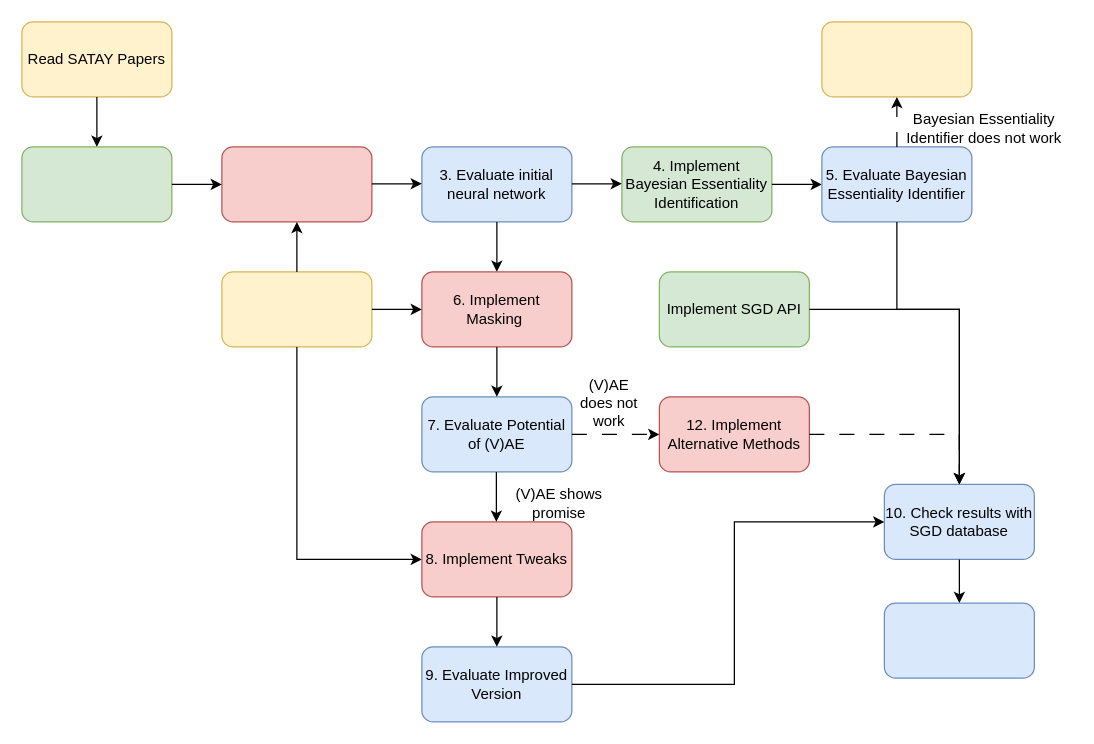
The diagram is 1094 pixels wide and 744 high, and some of its shapes have lost their labels. Each missing label, with the box of its shape:
1. Perform SATAY Data Exploration: (21, 146, 172, 222)
11. Analyze different contexts: (883, 602, 1034, 678)
2. Implement and optimize base (V)AE: (221, 146, 372, 222)
Research methods of previous (V)AE papers: (221, 271, 372, 347)
Research other TIS methods: (821, 21, 972, 97)
